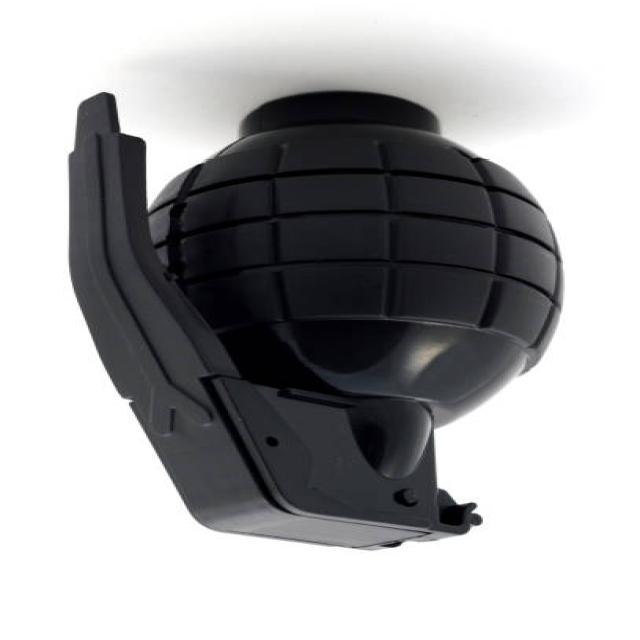grenade: (58, 81, 574, 555)
